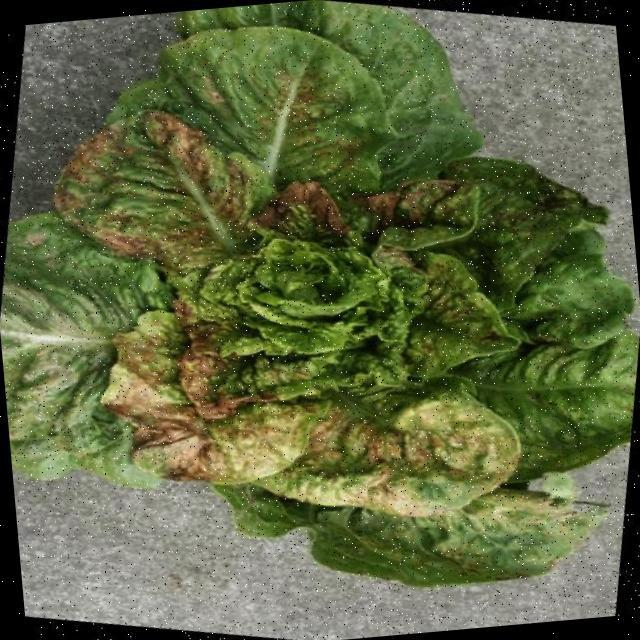Lettuce Mosaic Virus: (0, 38, 550, 557)
